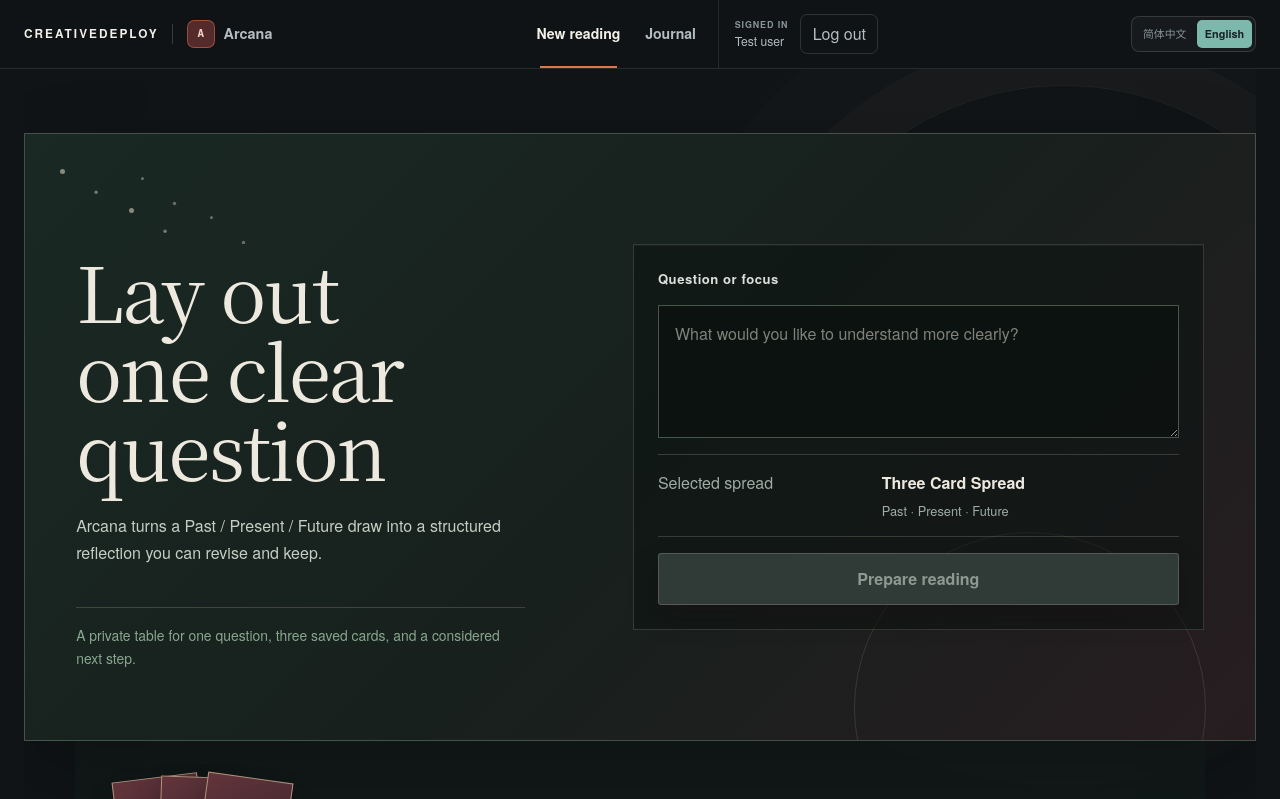
Arcana core browser flow › starts, draws, interprets, journals, and exposes a private share preview
In the text box labelled "Question or focus": [918, 372] box [658, 305, 1179, 438], type "What deserves my attention?"
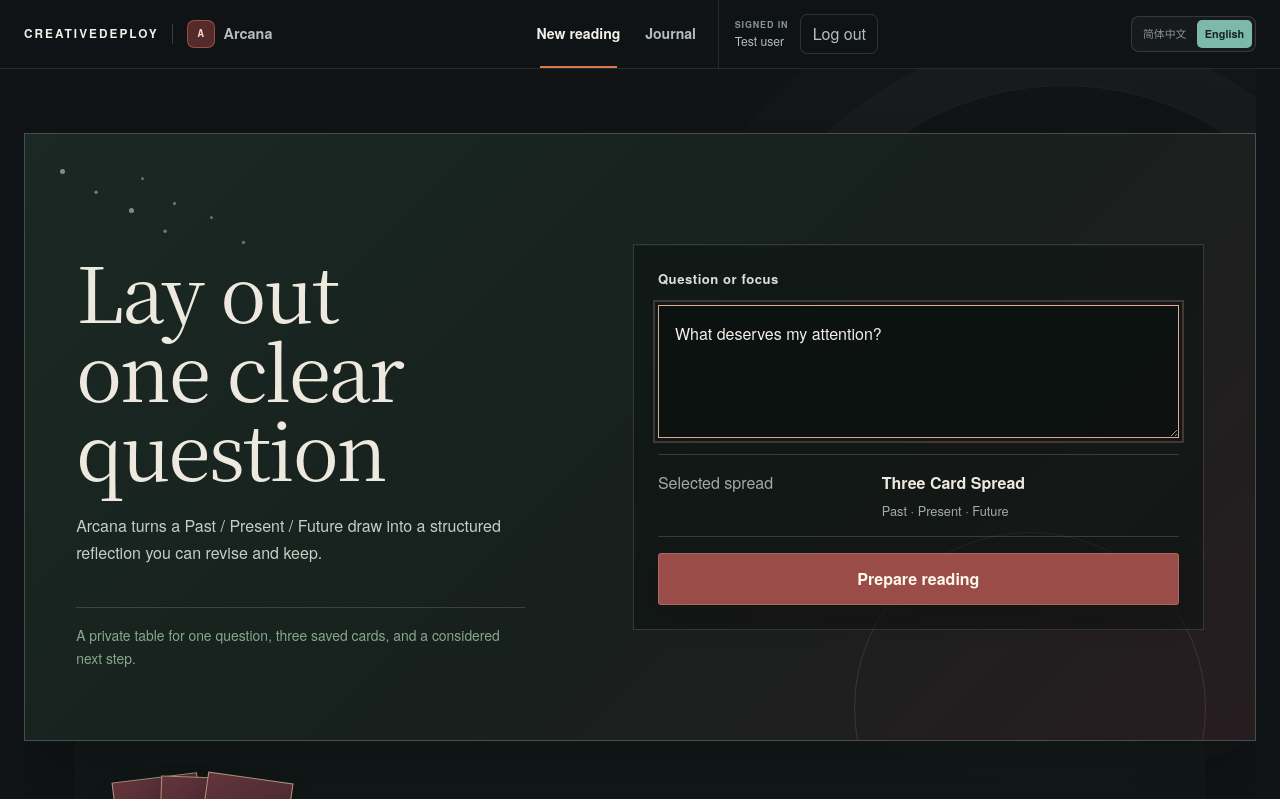
Click the button "Prepare reading": [918, 579] box [658, 553, 1179, 605]
(page scrolled)
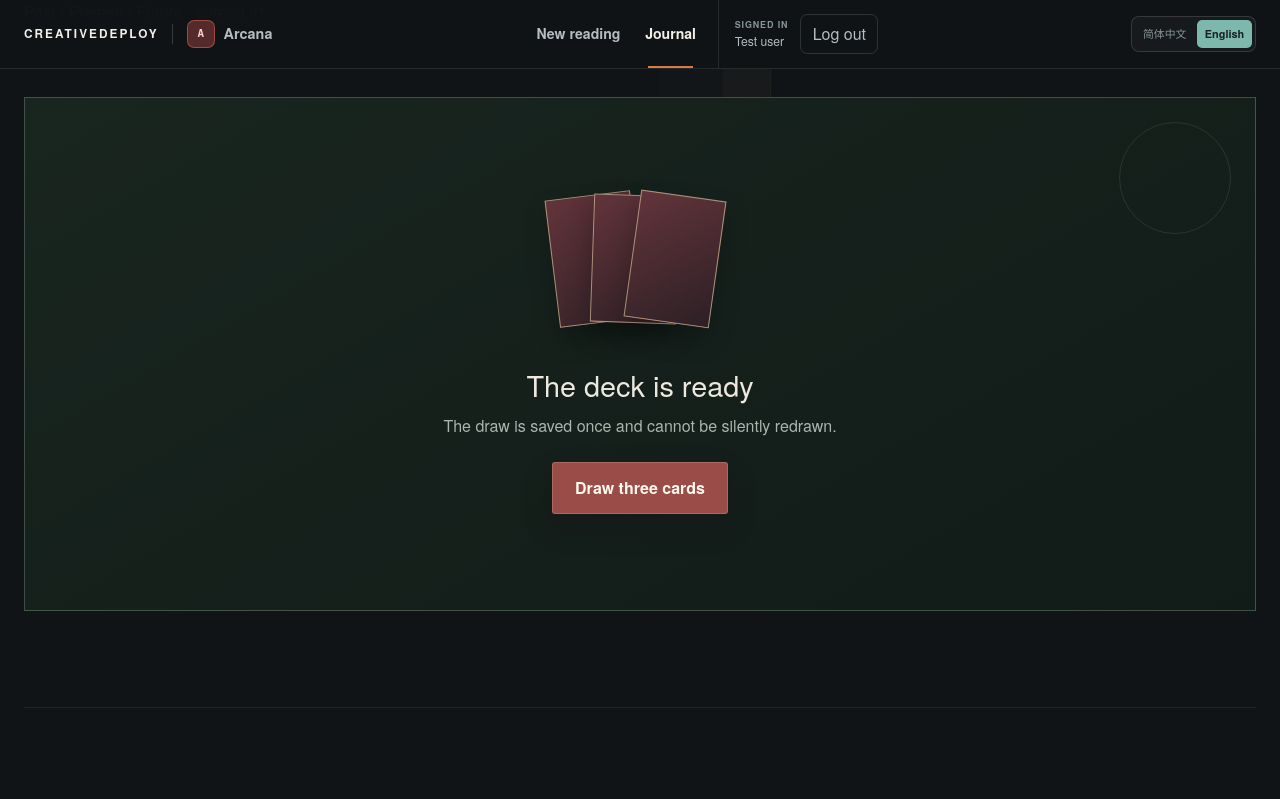
Now the button "Draw three cards" is shown
Click the button "Draw three cards": [640, 488] box [552, 462, 728, 514]
(page scrolled)
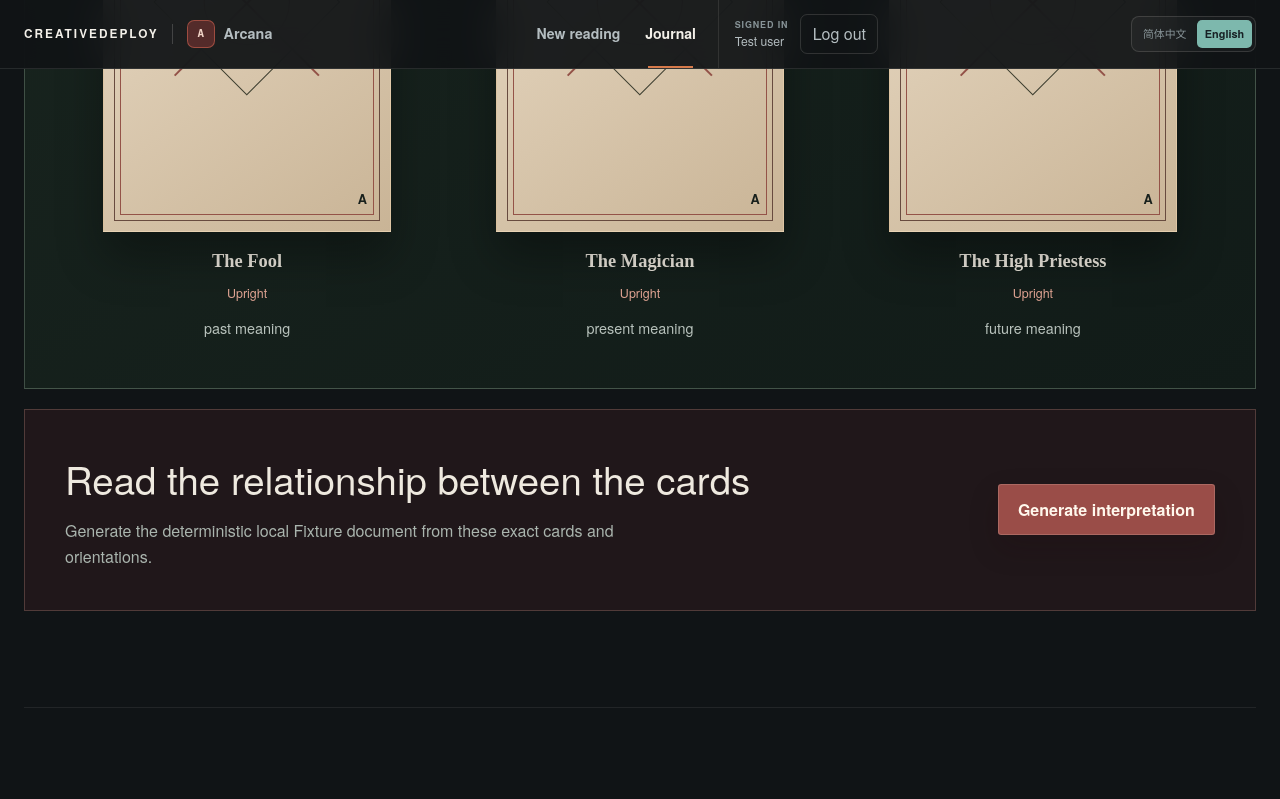
Now the heading "The Fool" is shown, box [212, 251, 282, 271]
Click the button "Generate interpretation": [1106, 510] box [998, 484, 1215, 535]
(page scrolled)
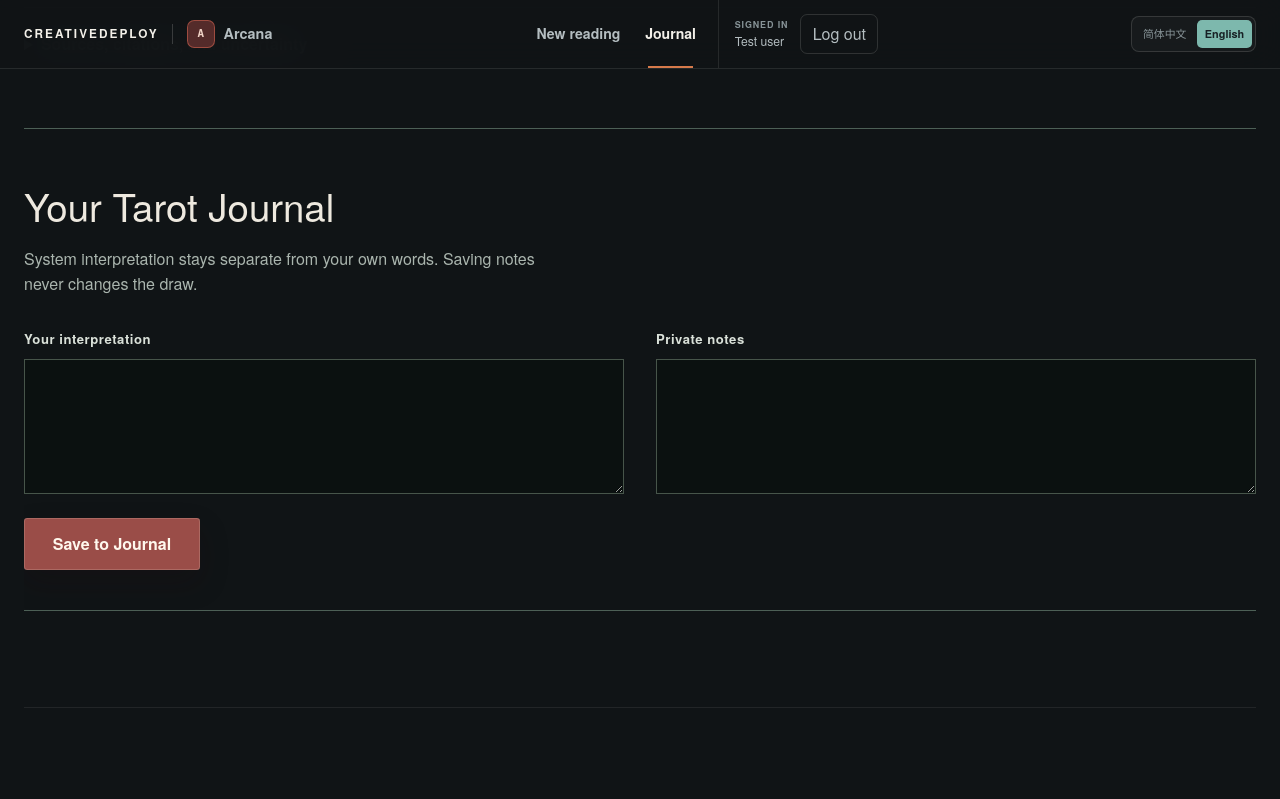
In the text box labelled "Your interpretation": [324, 427] box [24, 359, 624, 494], type "My view"
In the text box labelled "Private notes": [956, 427] box [656, 359, 1256, 494], type "My note"
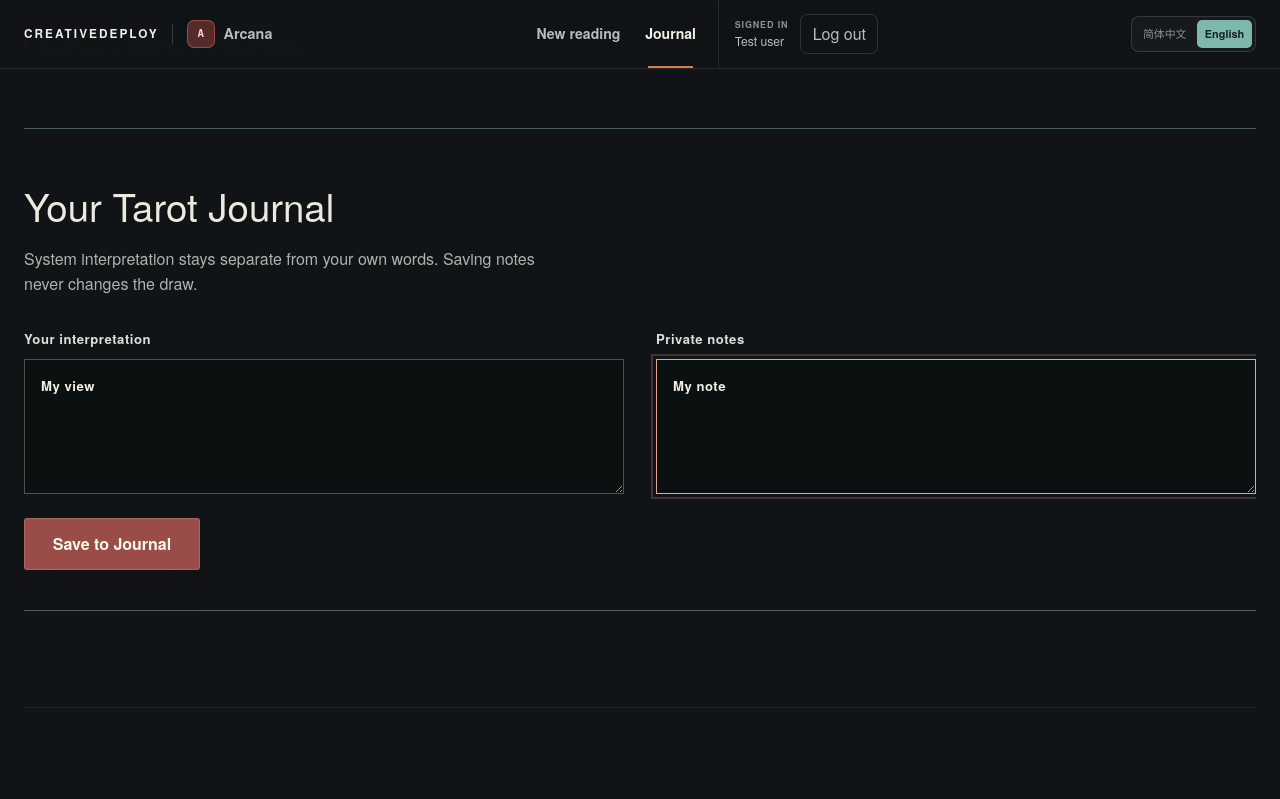
Click the button "Save to Journal": [112, 544] box [24, 518, 200, 570]
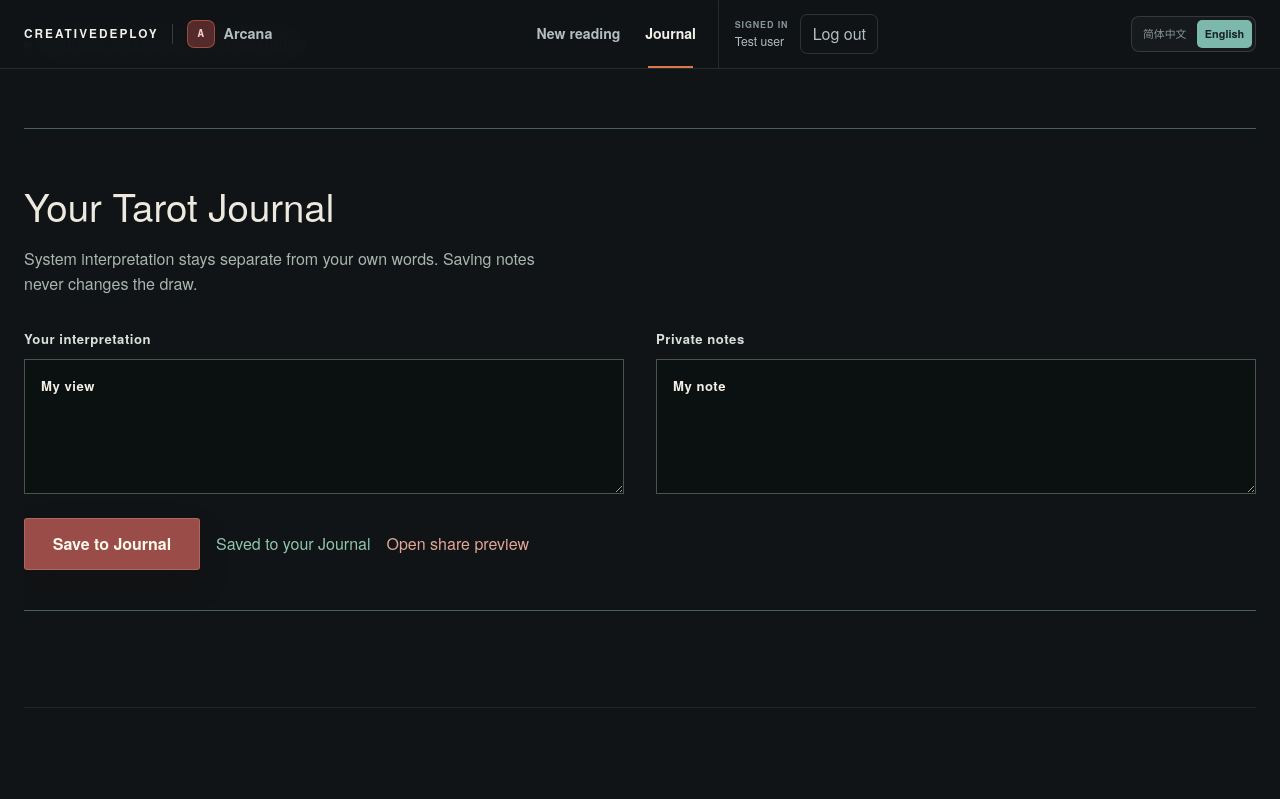
Now the text "Saved to your Journal" is shown, box [216, 532, 370, 556]
